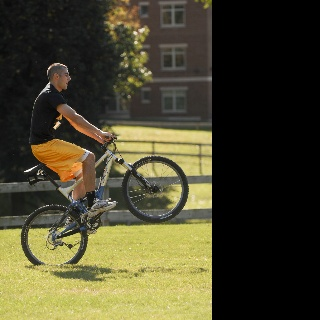without_mask: (59, 68, 71, 89)
